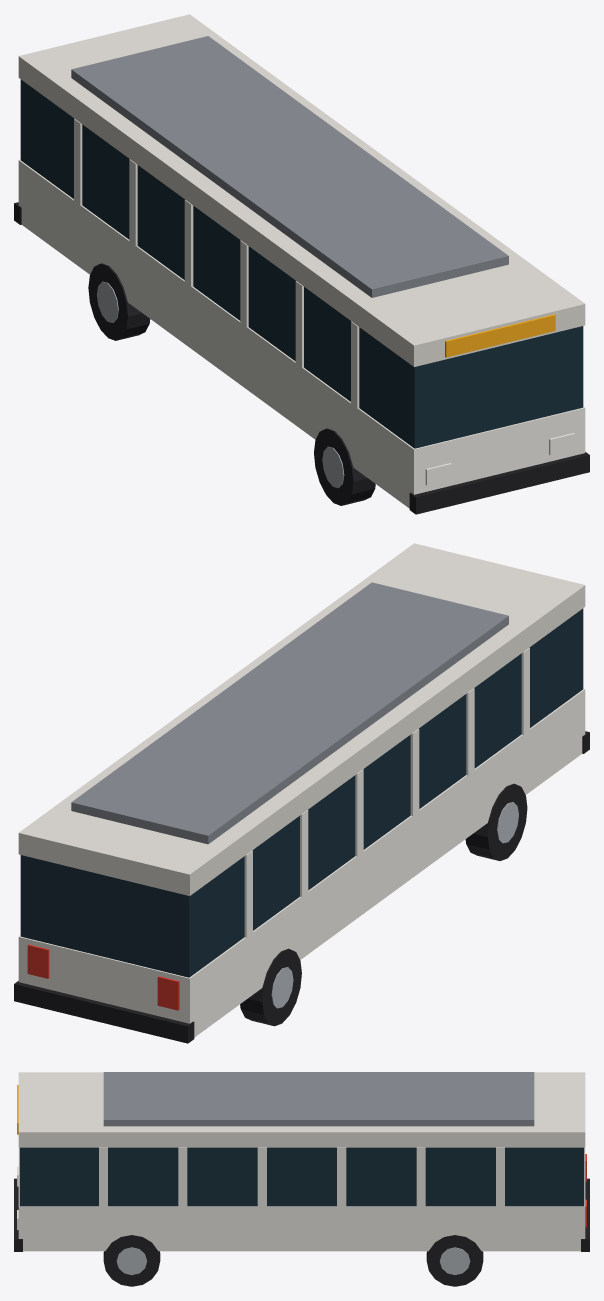
File: vehicle_bus.glb
The picture shows the model from 3 angles, top to bottom: view 1: azimuth 30°, elevation 25°; view 2: azimuth 150°, elevation 25°; view 3: azimuth 270°, elevation 25°; orthographic projection. The views are drawn at different scales.
Parts seen in each view (by area): view 1: body, wheel_front_right, wheel_rear_right; view 2: body, wheel_front_right, wheel_rear_right; view 3: body, wheel_front_left, wheel_rear_left.
Part boxes in pixels (x1=…): body: x1=14, y1=14, x2=589, y2=514; wheel_front_right: x1=314, y1=428, x2=375, y2=505; wheel_rear_right: x1=88, y1=263, x2=150, y2=340; body: x1=14, y1=543, x2=589, y2=1043; wheel_front_right: x1=465, y1=783, x2=527, y2=860; wheel_rear_right: x1=240, y1=948, x2=301, y2=1026; body: x1=14, y1=1072, x2=589, y2=1251; wheel_front_left: x1=103, y1=1235, x2=160, y2=1286; wheel_rear_left: x1=426, y1=1235, x2=483, y2=1286.
Bounding box in the file's own units: 2.56 × 3.12 × 10.16.
